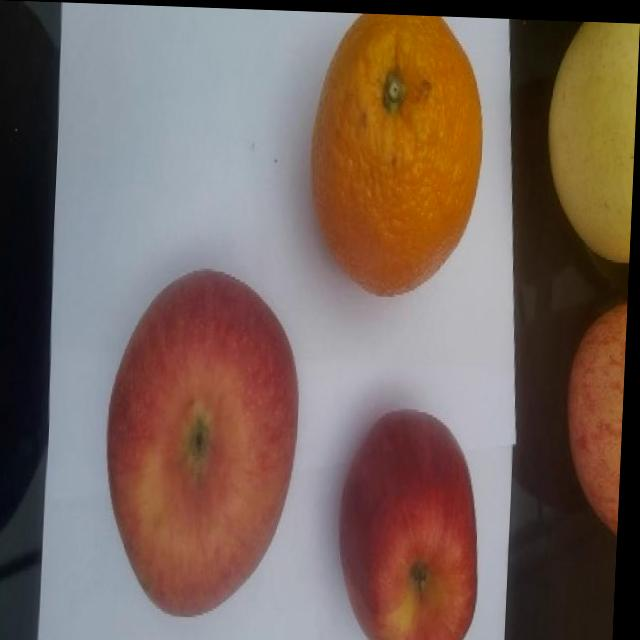Apple: (105, 266, 308, 620), (340, 405, 490, 640), (566, 295, 630, 533)
Orange: (307, 10, 490, 298)
